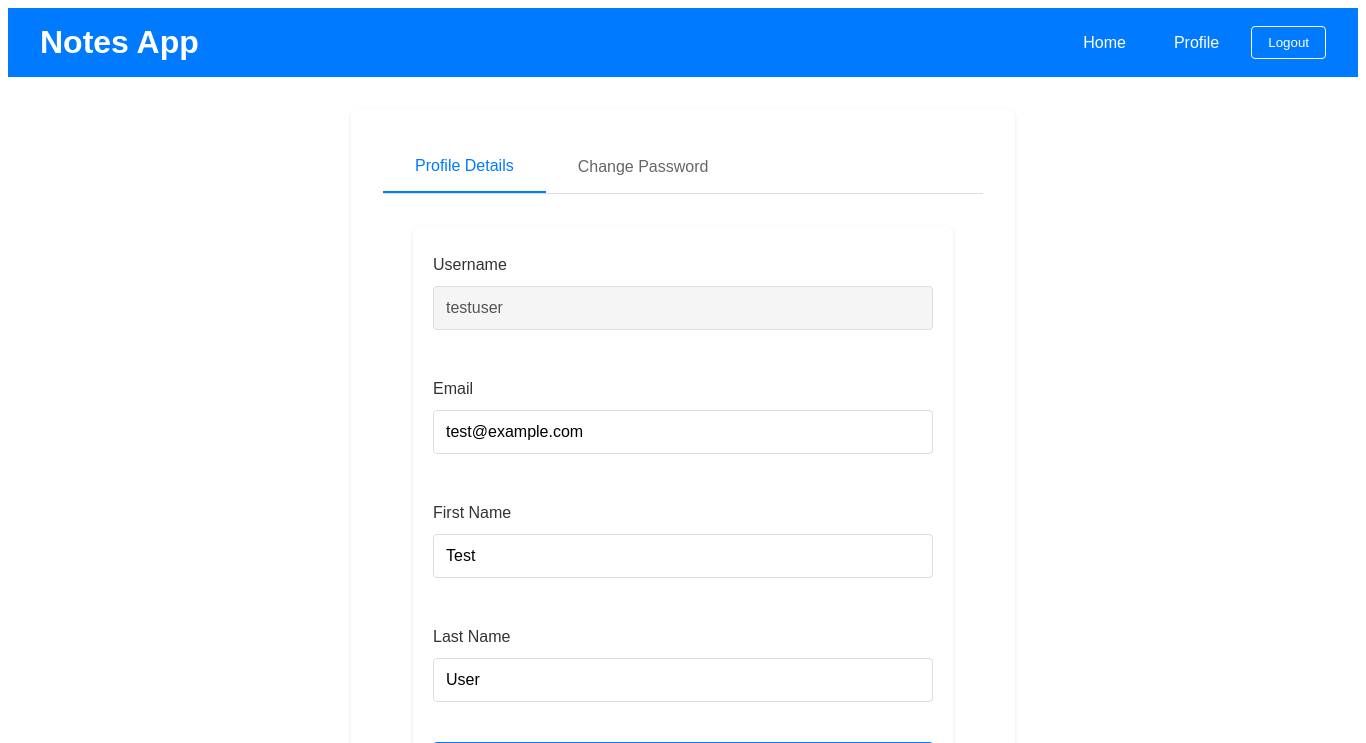
Test case: Profile Component › handles profile update
This screenshot has width=1366, height=743.
Replace the text in the field showing "test@example.com" below "Email" with "new@example.com" at (683, 432), box [433,410,933,454]
(page scrolled)
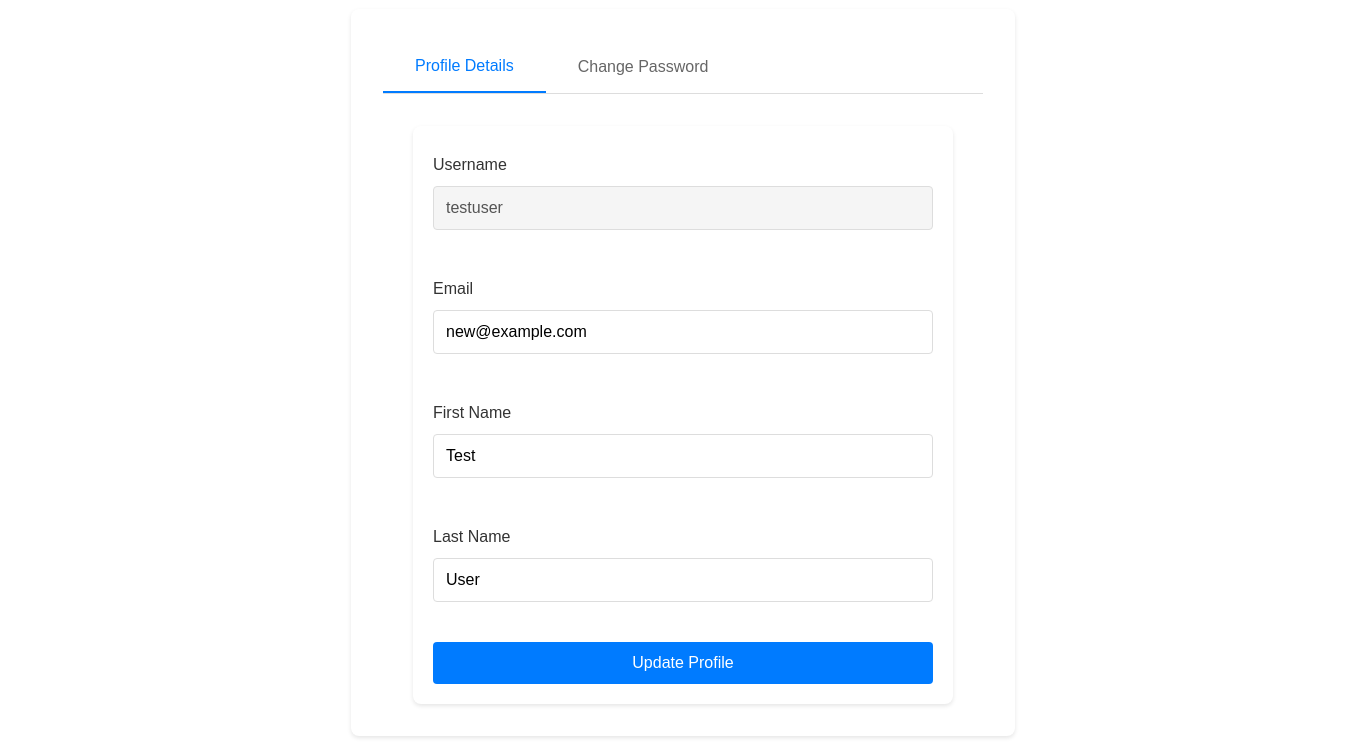
Click the button "Update Profile".
click(683, 663)  # box [433,642,933,684]
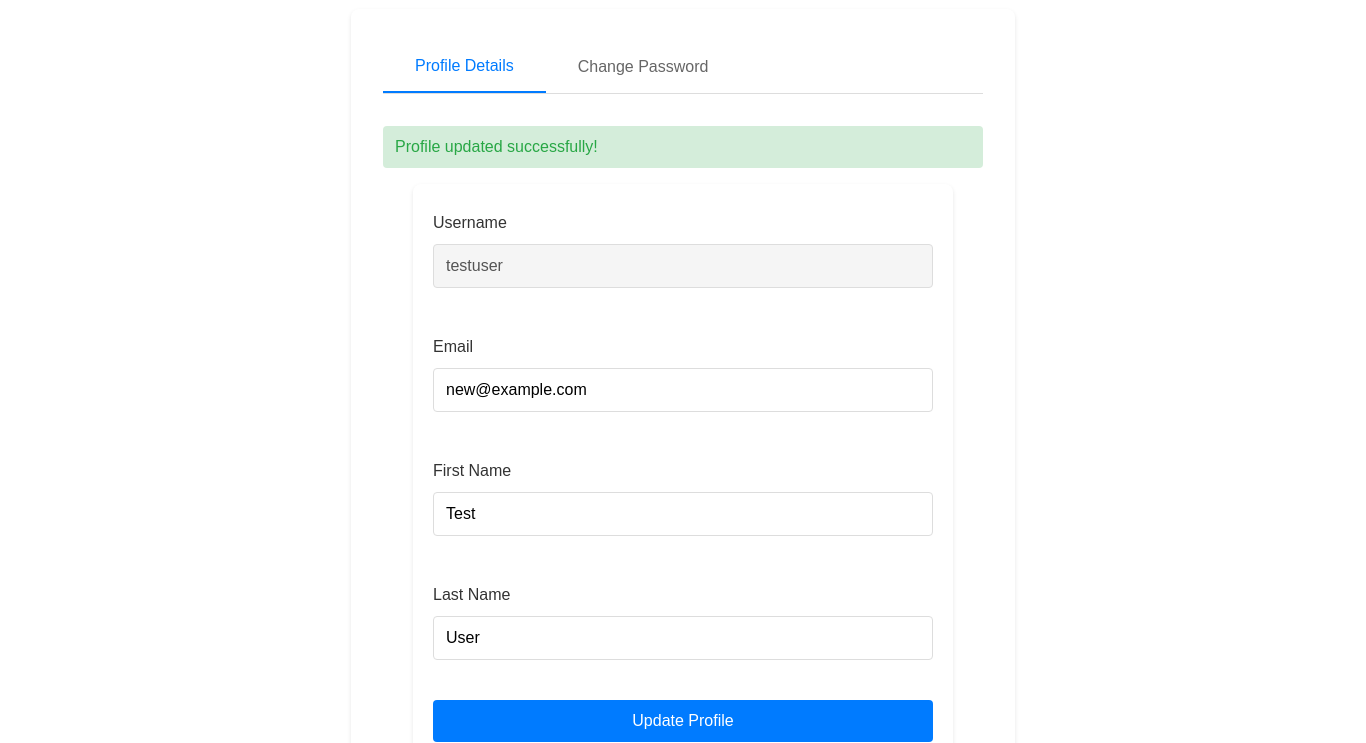
Result: the text "Profile updated successfully!" is shown at [383,126,983,168]
